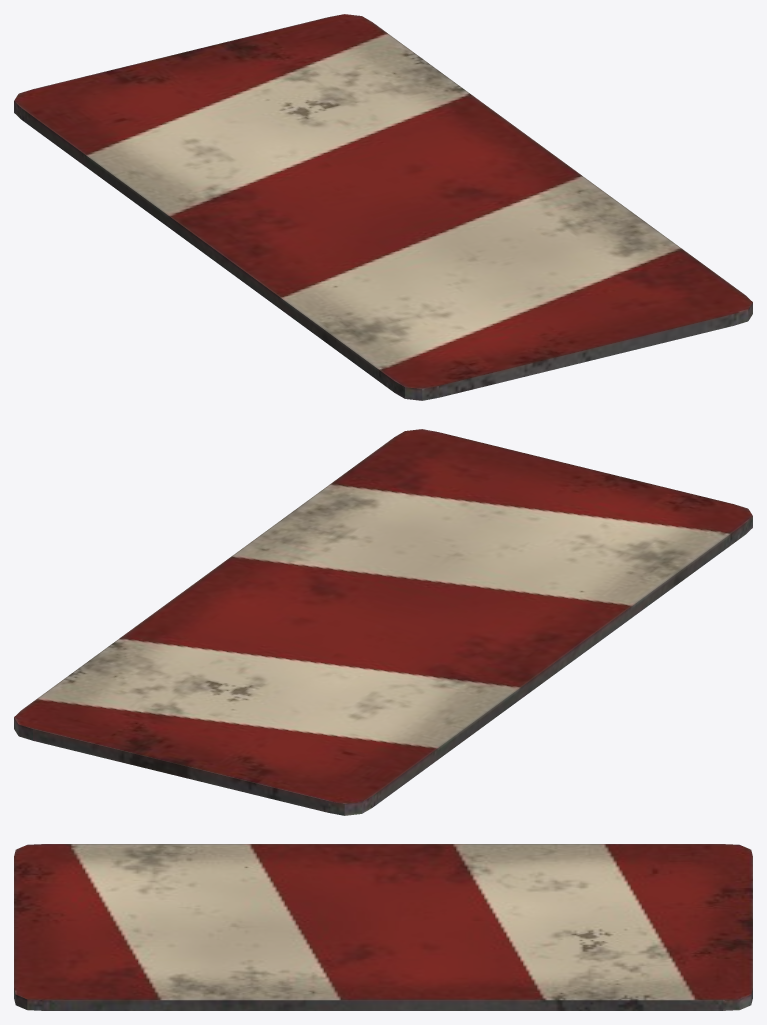
Rendered from Sign_A.fbx.
3 views of the same model, one above another, from view 1: azimuth 30°, elevation 25°; view 2: azimuth 150°, elevation 25°; view 3: azimuth 270°, elevation 25° (orthographic). The views are drawn at different scales.
Parts seen in each view (by area): view 1: Sign_A; view 2: Sign_A; view 3: Sign_A.
Boxes of the visible parts, <box> form: Sign_A: <box>14,14,752,400</box>; Sign_A: <box>14,429,752,815</box>; Sign_A: <box>14,844,752,1010</box>.
Size of the model in its own units: 25 by 0.8 by 50.
